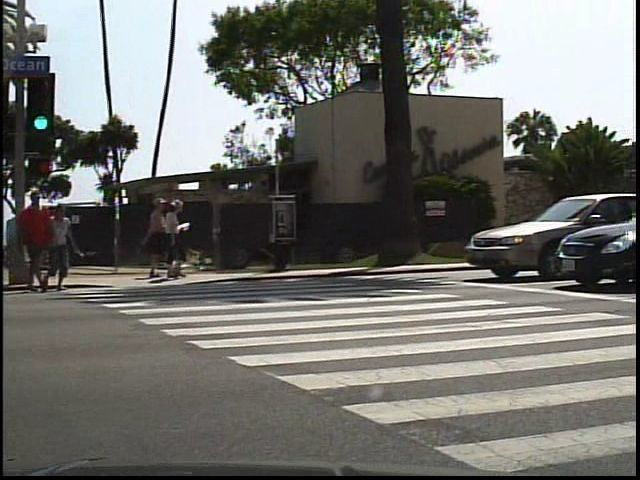person: (17, 189, 56, 297), (50, 197, 90, 293)
